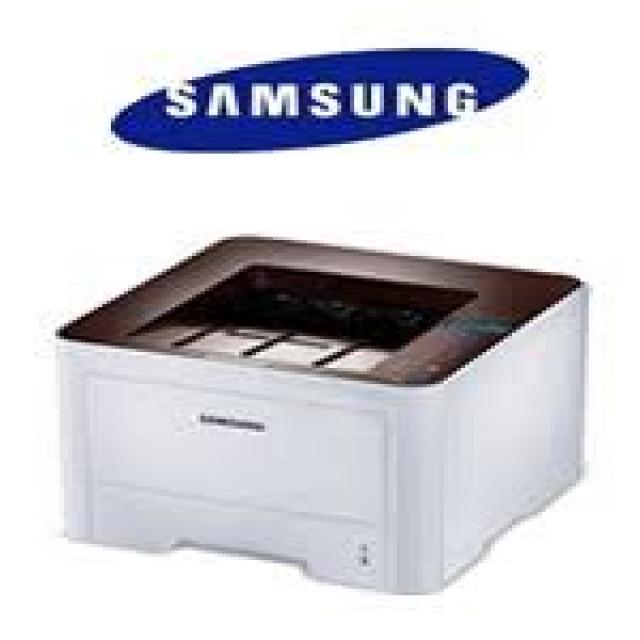printer: (49, 231, 593, 598)
